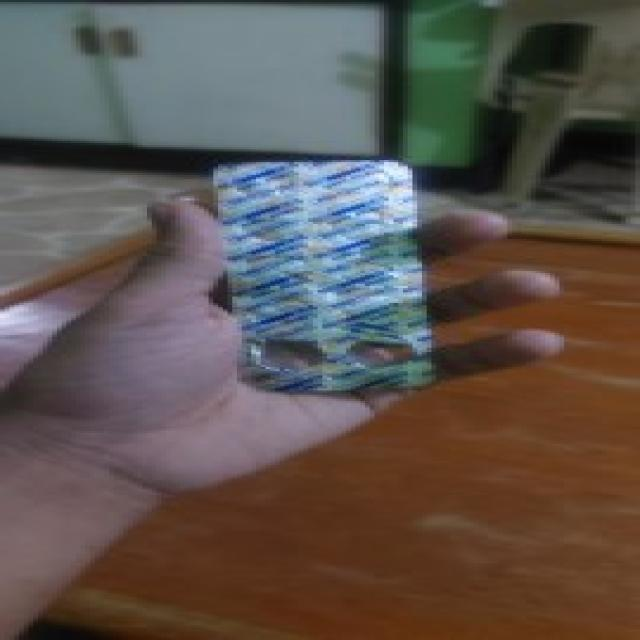Cacat: (213, 159, 443, 393)
Kemasan: (249, 332, 434, 381)
